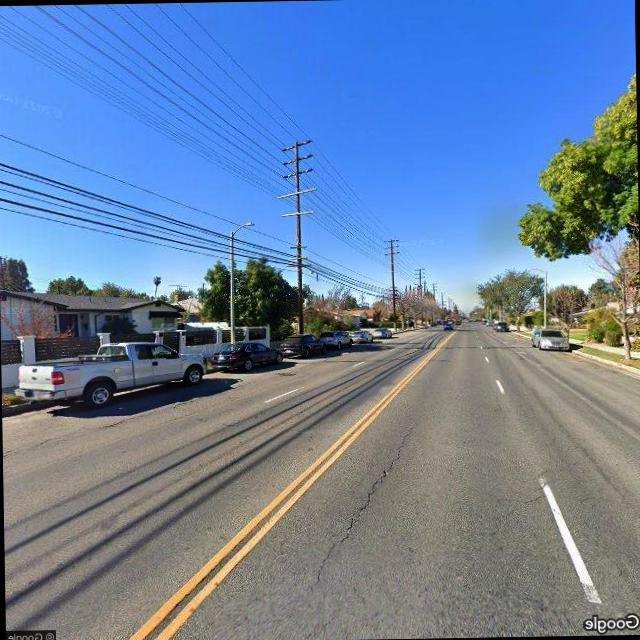crack: (308, 423, 421, 581), (524, 468, 554, 506)
